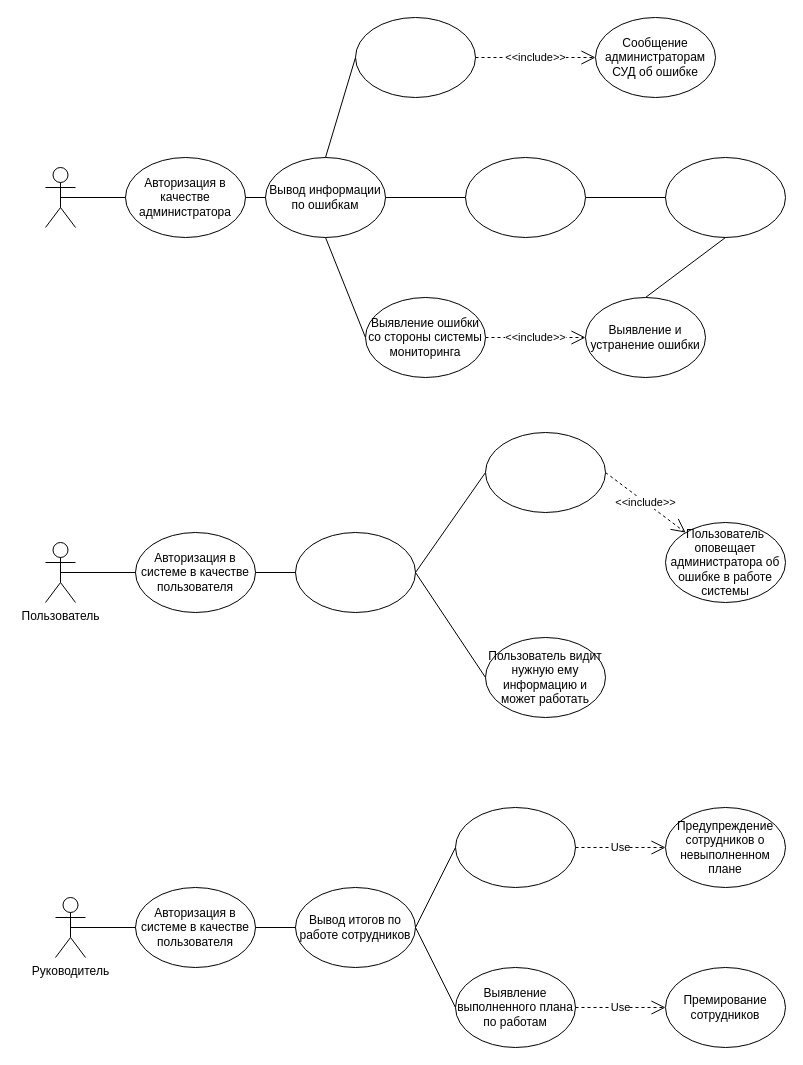
Some shapes in this 803 by 1065 pixel diagram are drawn without their labels. The shapes that lost their labels are listed below. From the top down, each one's centre as x and y in pixels, then its label:
[415,57]: Выявление ошибки со стороны СУД
[60,197]: Администратор
[525,197]: Не выявлено никаких ошибок
[725,197]: Корректная работа системы мониторинга
[545,472]: Обнаружение ошибки в работе системы
[355,572]: Вывод нужной информации для работы
[515,847]: Выявление невыполненного плана по работам
